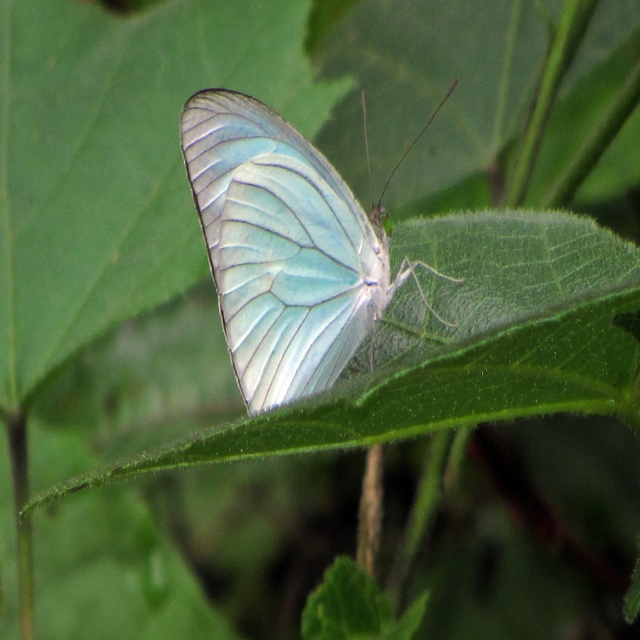Butterfly: (179, 78, 466, 418)
